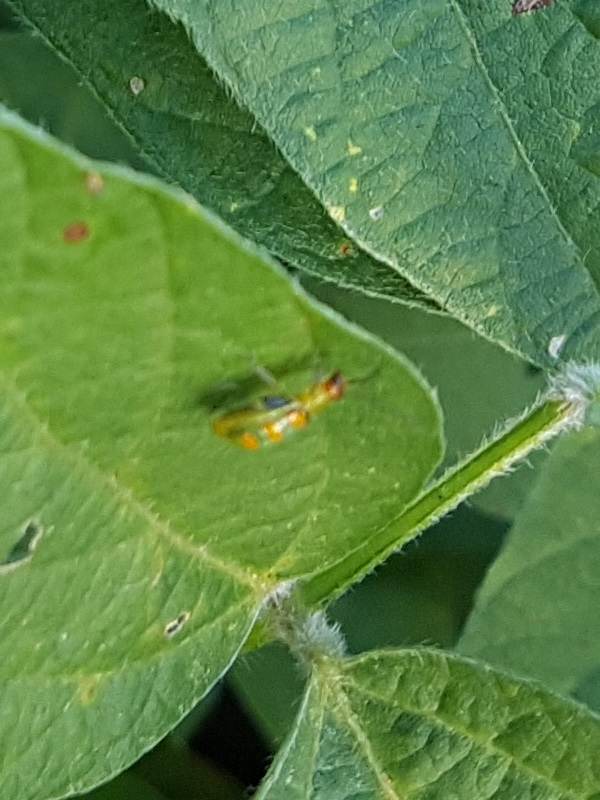Diabrotica_speciosa: (193, 342, 360, 473)
